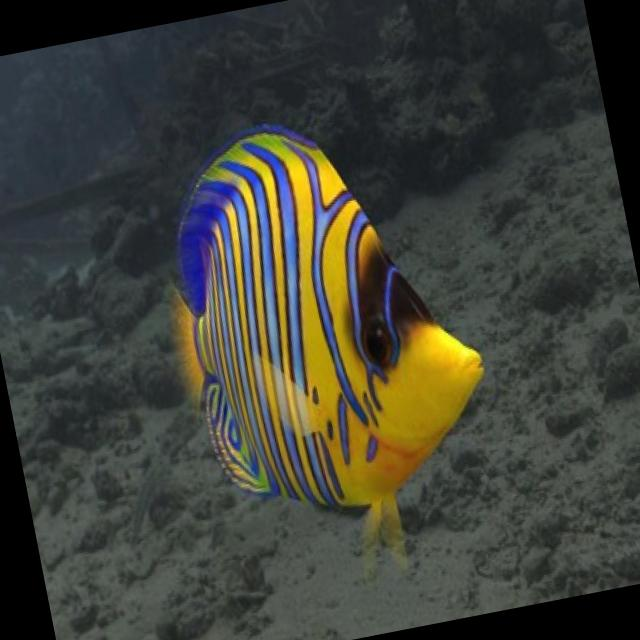ButterflyFish: (132, 97, 516, 592)
